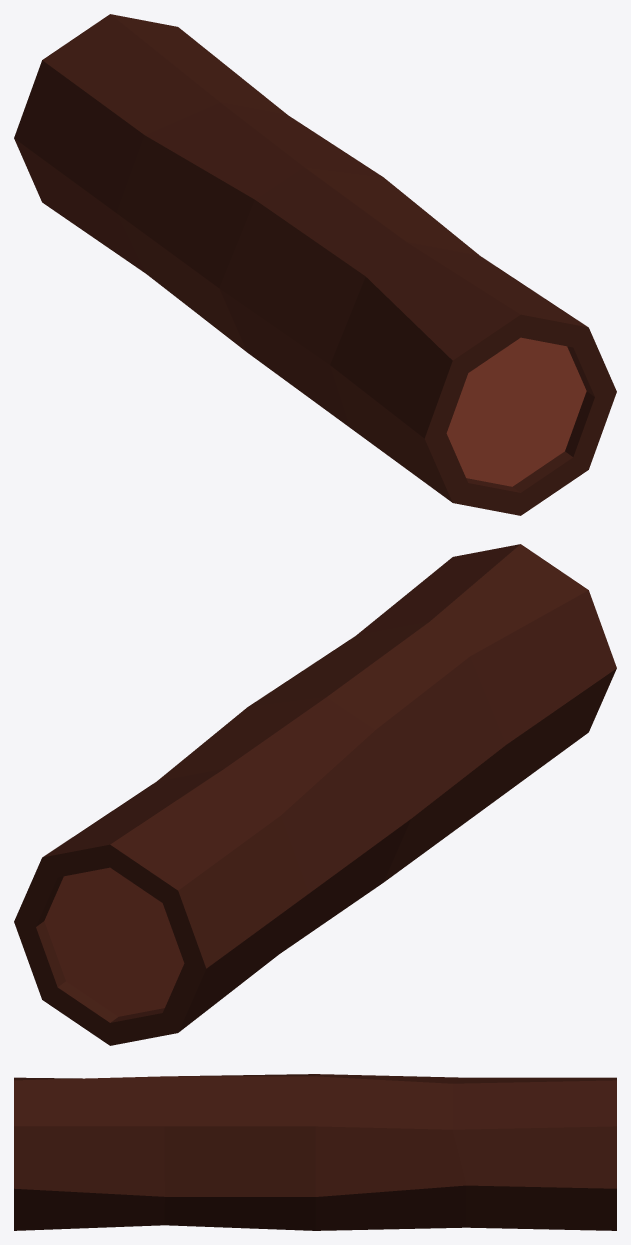
File: log_8b.fbx
The picture shows the model from 3 angles, top to bottom: view 1: azimuth 30°, elevation 25°; view 2: azimuth 150°, elevation 25°; view 3: azimuth 270°, elevation 25°; orthographic projection. The views are drawn at different scales.
Visible parts, largest first — view 1: log_8b; view 2: log_8b; view 3: log_8b.
Boxes of the visible parts, x1=… form: log_8b: x1=14, y1=14, x2=616, y2=515; log_8b: x1=14, y1=544, x2=616, y2=1045; log_8b: x1=14, y1=1074, x2=616, y2=1230.
Bounding box in the file's own units: 53.77 × 53.18 × 197.
